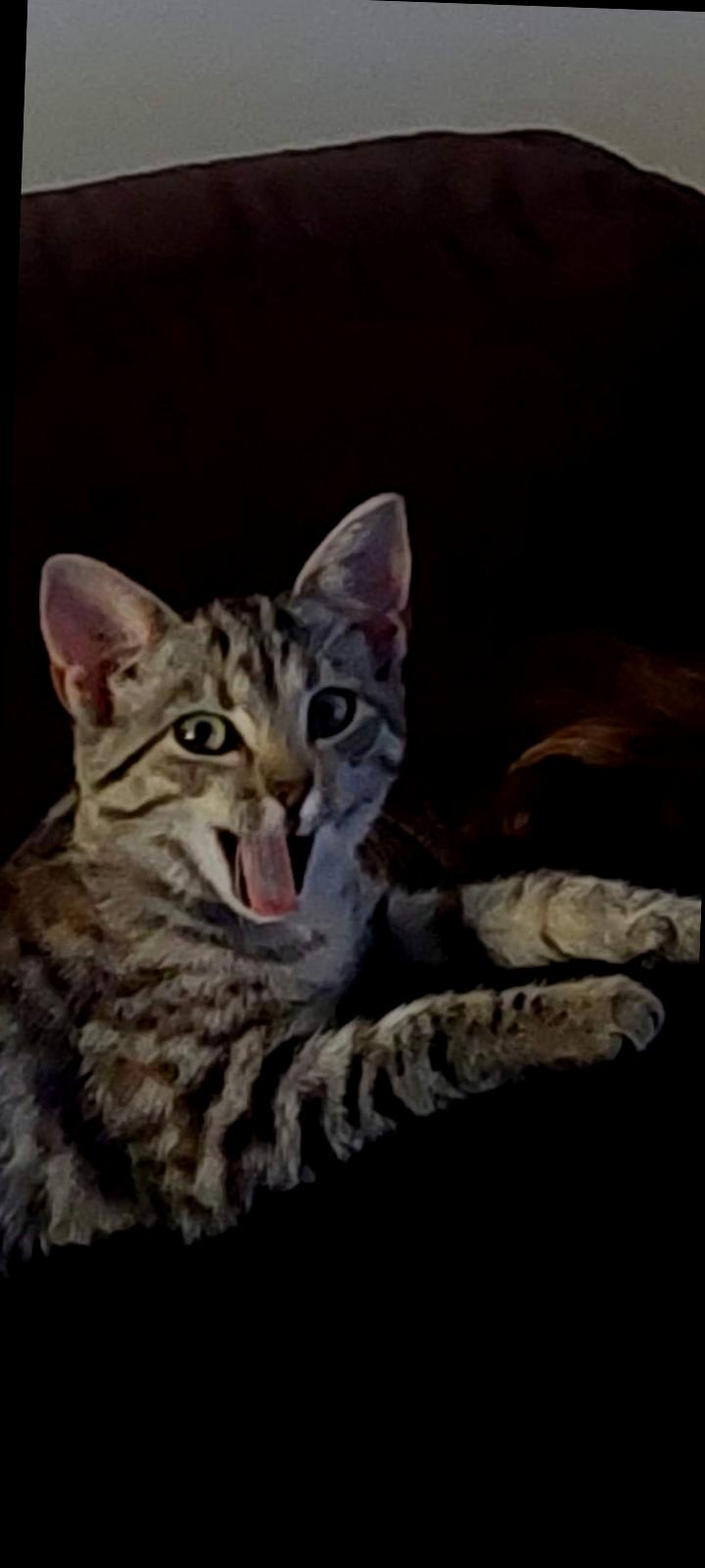macka: (0, 474, 705, 1315)
